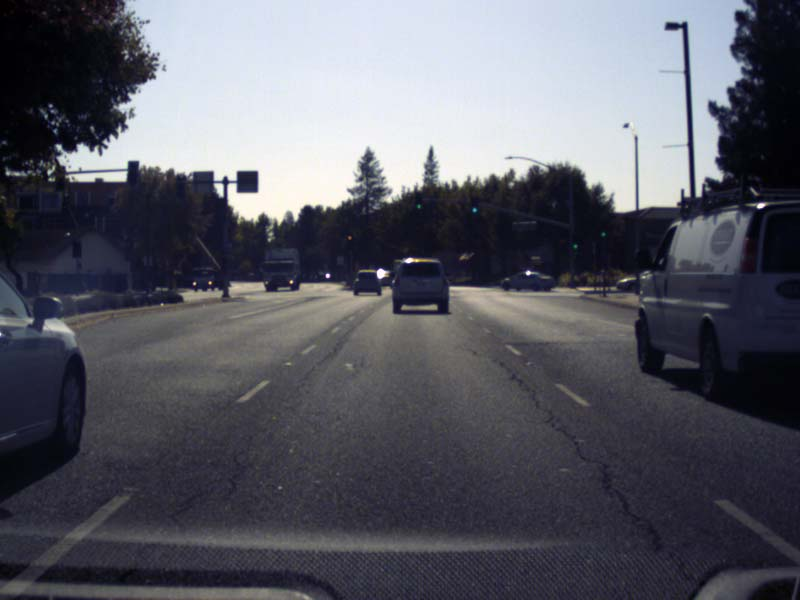Green: (470, 195, 478, 214), (415, 192, 422, 210), (571, 233, 578, 250), (598, 229, 606, 238)
Red: (346, 234, 352, 249)
